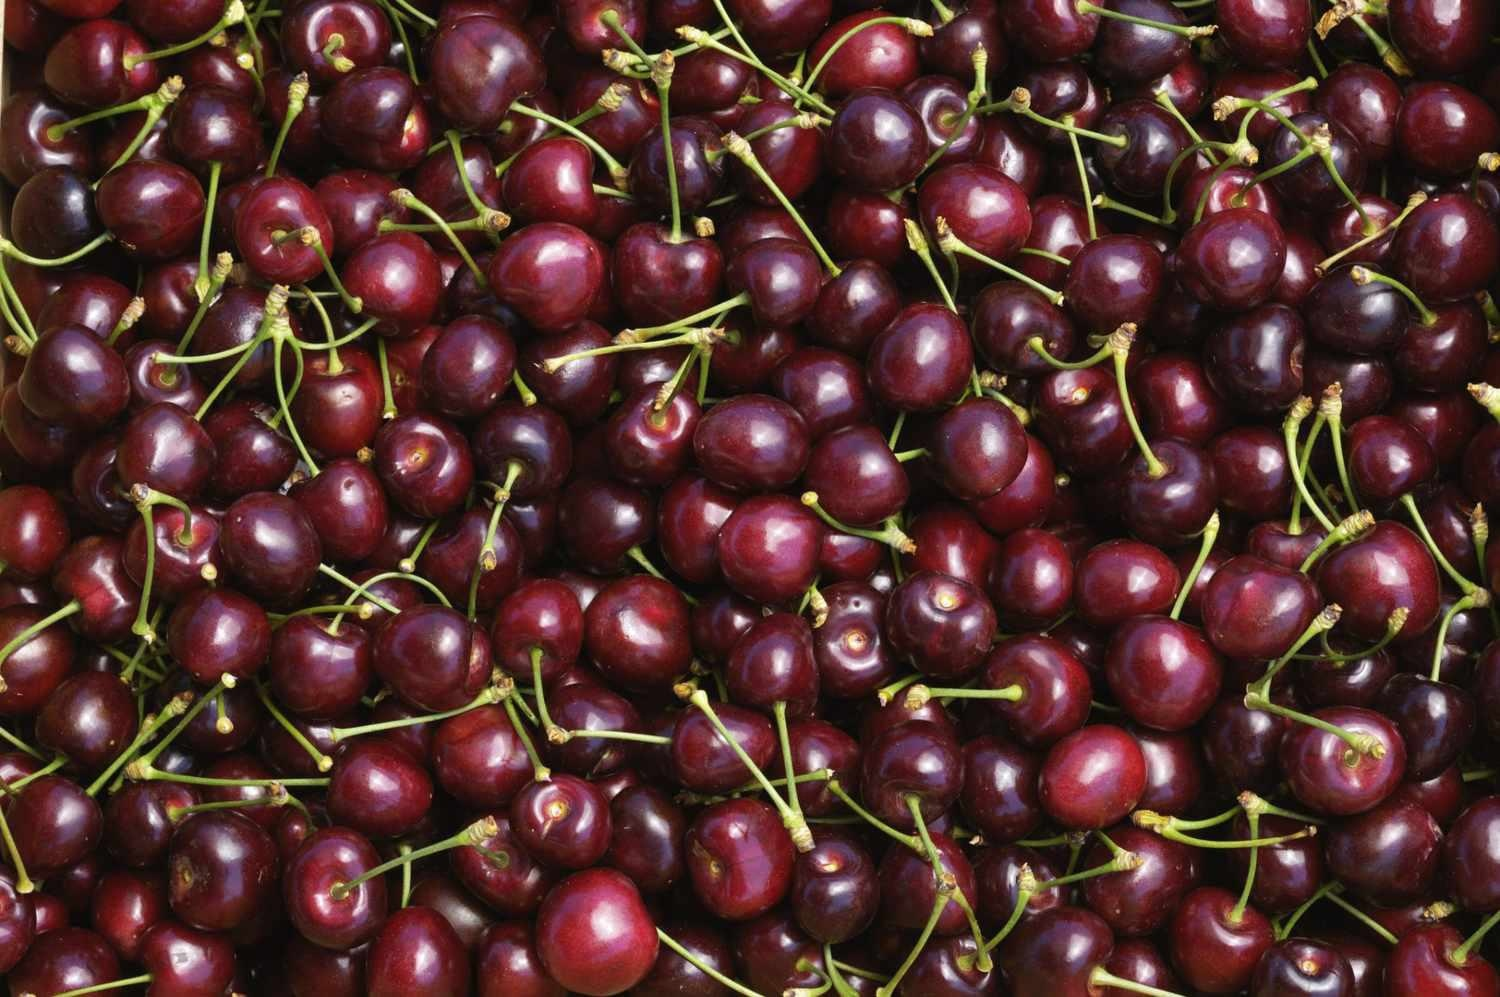apple: (1, 0, 1499, 997)
apricot: (2, 0, 1497, 996)
cherry: (1, 0, 1499, 996)
grapes: (2, 1, 1498, 996)
kiwi: (3, 1, 1497, 995)
melon: (1, 0, 1499, 996)
potato: (2, 0, 1498, 995)
